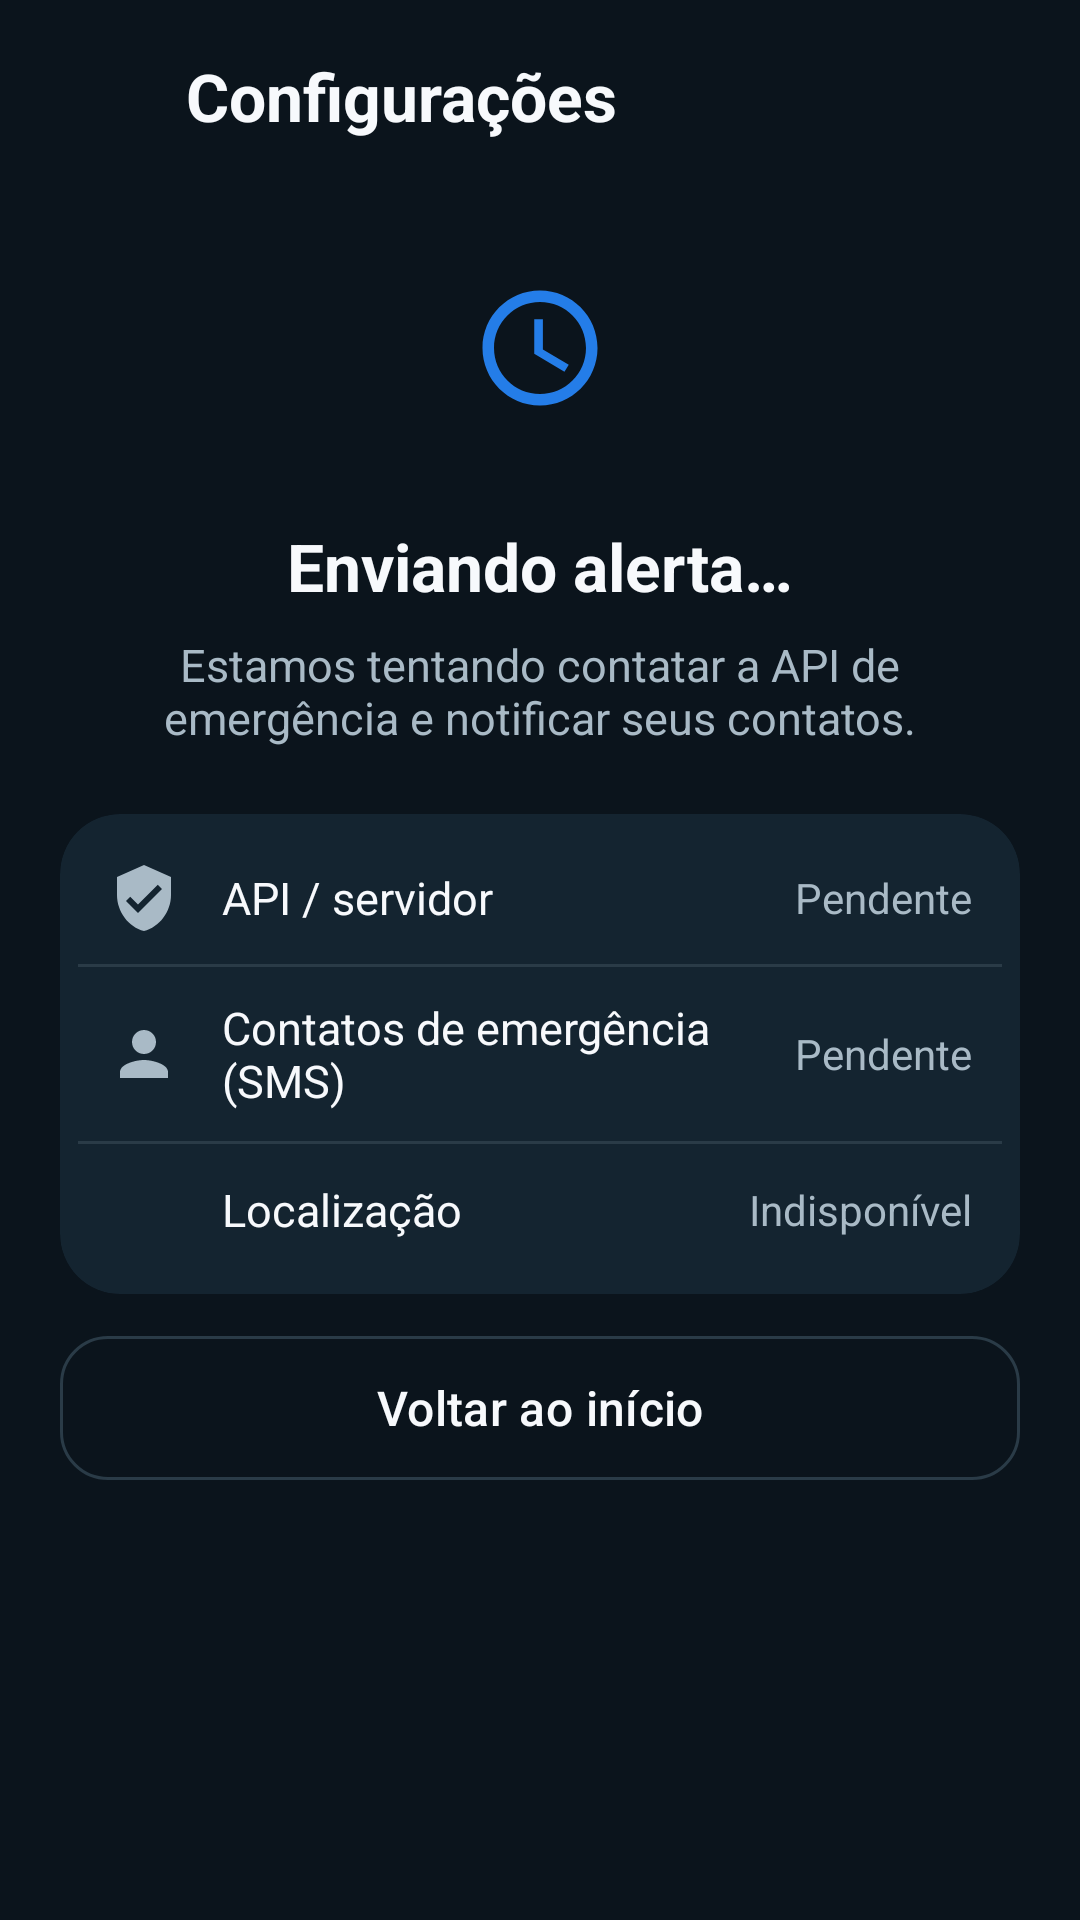

Point at icon controls on the screen. Image size 1080px×1920px, points as (x,y).
clock: (540,348)
person: (144,1054)
shield: (144,898)
